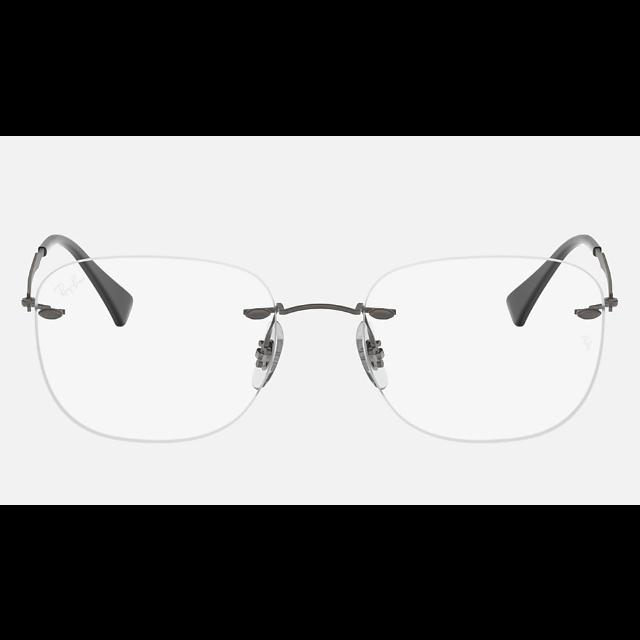glasses: (26, 232, 616, 442)
